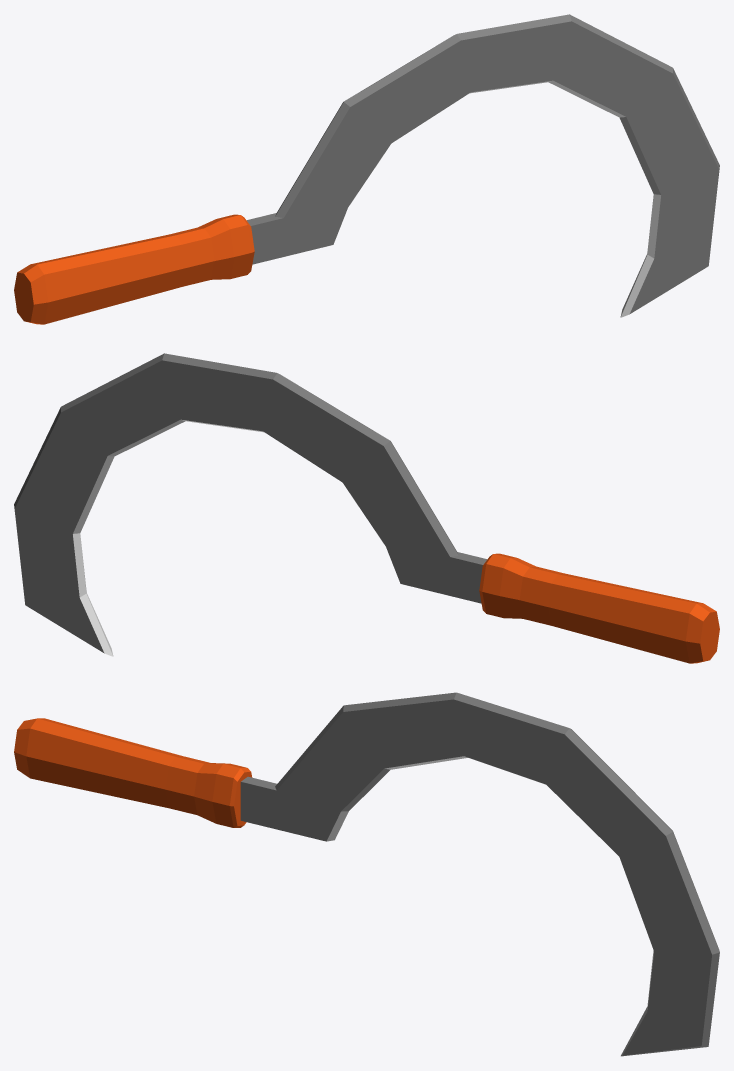
Rendered from sickle.glb.
3 views of the same model, one above another, from view 1: azimuth 30°, elevation 25°; view 2: azimuth 150°, elevation 25°; view 3: azimuth 330°, elevation 25° (orthographic).
Parts seen in each view (by area): view 1: sickle; view 2: sickle; view 3: sickle.
Boxes of the visible parts, x1,y1,x2,y2 form: sickle: (14, 14, 719, 324); sickle: (14, 353, 719, 663); sickle: (14, 692, 719, 1056).
Bounding box in the file's own units: 0.4997 × 0.2223 × 0.0273.
Materials: 1 (1 with a texture image).
